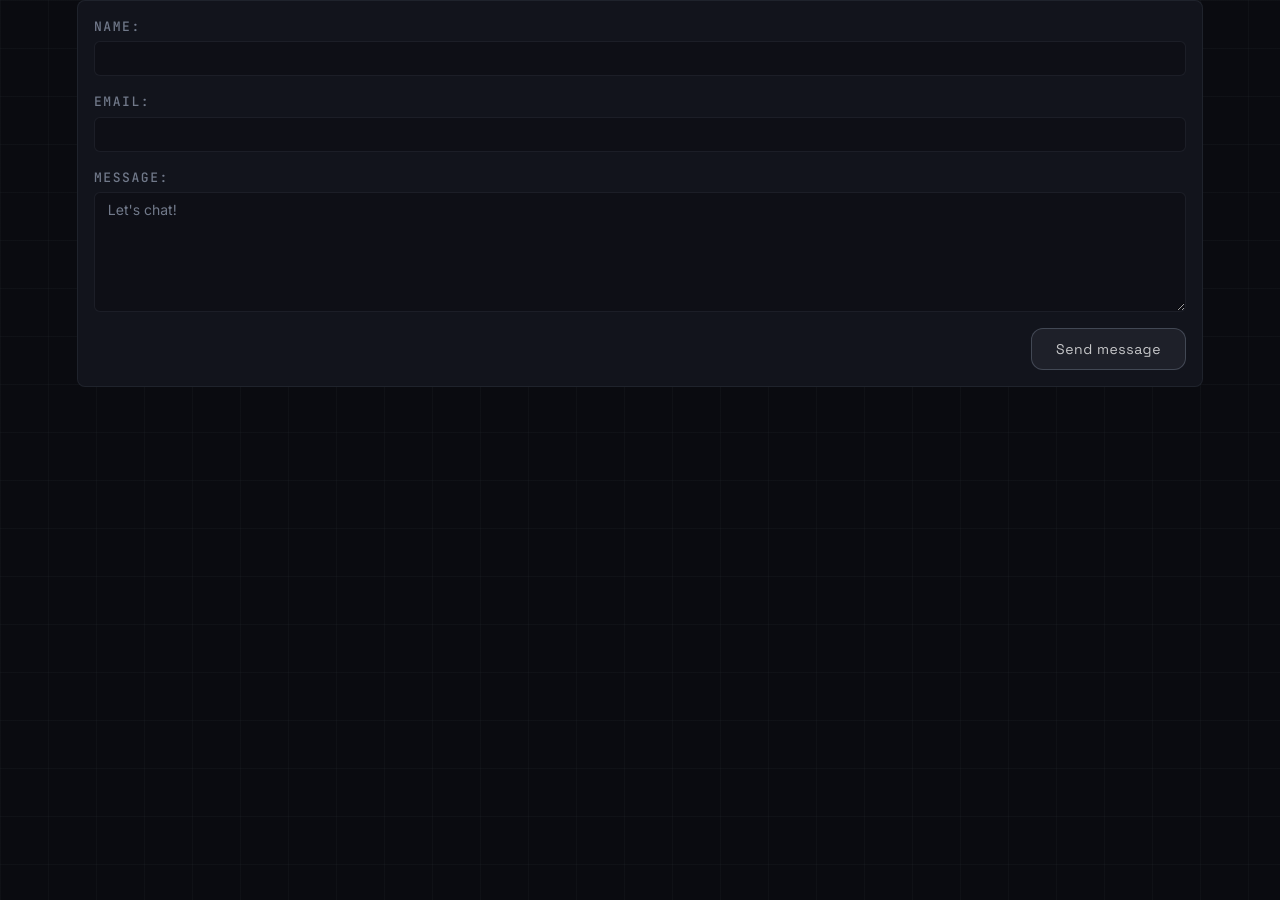
Test: ContactForm name validation › shows an error when name is not provided
The width and height of the screenshot is (1280, 900).
Click the button "Send message" at (1108,349), box [1031, 328, 1186, 370]
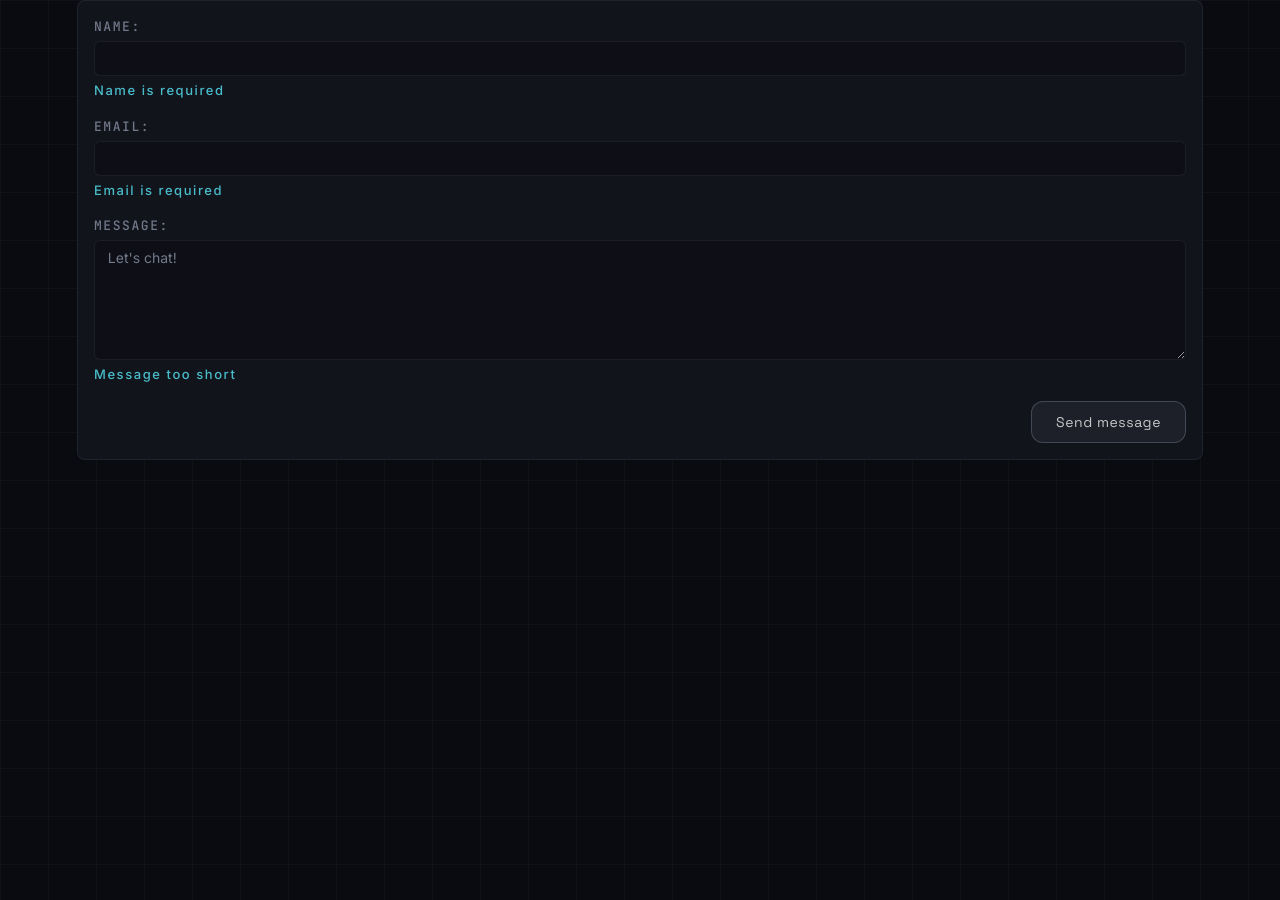
Expected: the text "Name is required" is shown, [94, 82, 225, 98]
